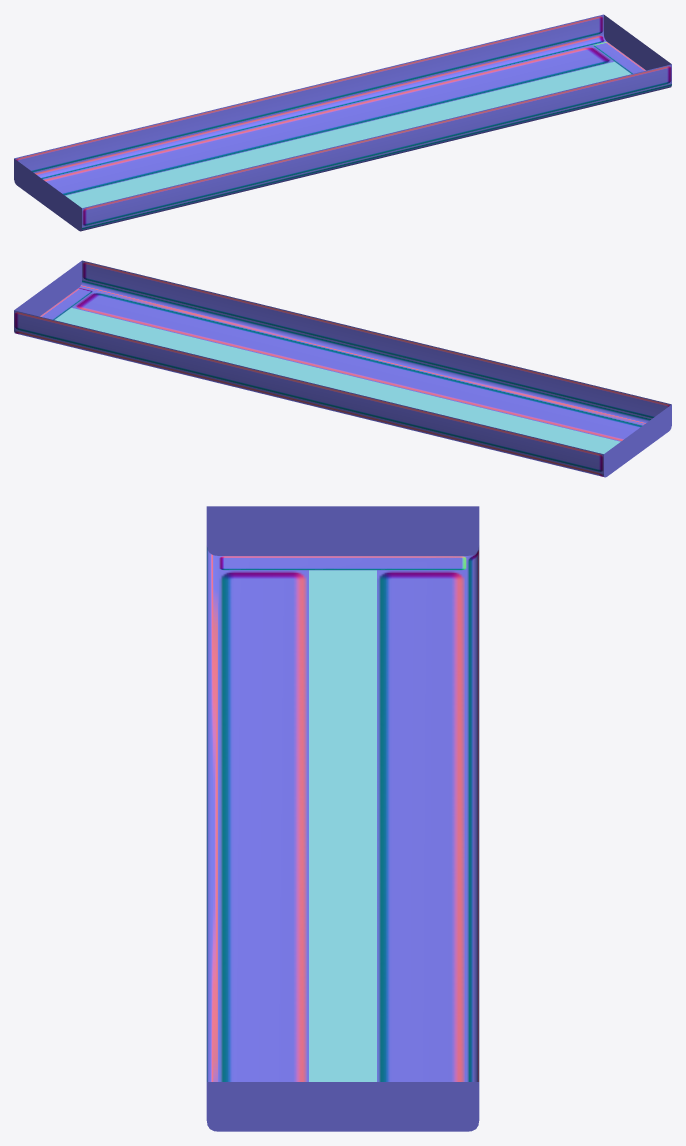
File: Light_01.FBX
3 renders of one model, top to bottom at view 1: azimuth 30°, elevation 25°; view 2: azimuth 150°, elevation 25°; view 3: azimuth 270°, elevation 25°, orthographic. The views are drawn at different scales.
Visible parts, largest first — view 1: Light_01, Neon_01; view 2: Light_01, Neon_01; view 3: Light_01, Neon_01.
Part boxes in pixels (x1=…): Light_01: x1=14, y1=14, x2=671, y2=231; Neon_01: x1=65, y1=62, x2=630, y2=207; Light_01: x1=14, y1=260, x2=671, y2=477; Neon_01: x1=55, y1=308, x2=620, y2=453; Light_01: x1=206, y1=506, x2=479, y2=1131; Neon_01: x1=309, y1=570, x2=376, y2=1081.
Bounding box in the file's own units: 10 × 0.4056 × 2.
Materials: 2 (1 with a texture image).
